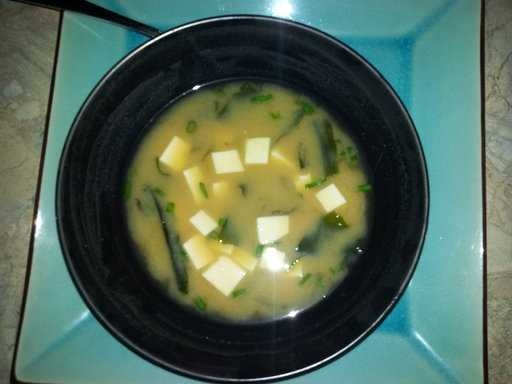soup: (107, 95, 367, 315)
